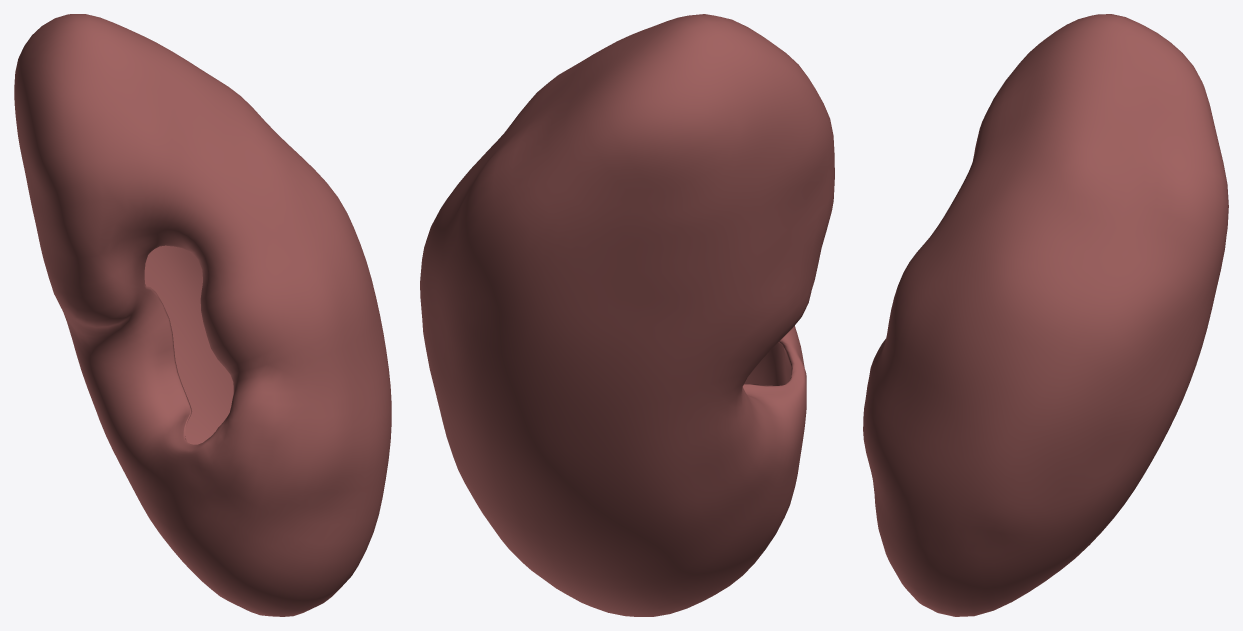
File: 3d-vh-f-kidney-l.glb
3 views of the same model, side by side, from view 1: azimuth 30°, elevation 25°; view 2: azimuth 150°, elevation 25°; view 3: azimuth 270°, elevation 25° (orthographic). The views are drawn at different scales.
Visible parts, largest first — view 1: VH_F_kidney_capsule_L; view 2: VH_F_kidney_capsule_L; view 3: VH_F_kidney_capsule_L.
Boxes of the visible parts, x1=… form: VH_F_kidney_capsule_L: x1=14, y1=14, x2=391, y2=616; VH_F_kidney_capsule_L: x1=420, y1=14, x2=834, y2=616; VH_F_kidney_capsule_L: x1=863, y1=14, x2=1228, y2=616.
Bounding box in the file's own units: 0.0731 × 0.1249 × 0.0776.
